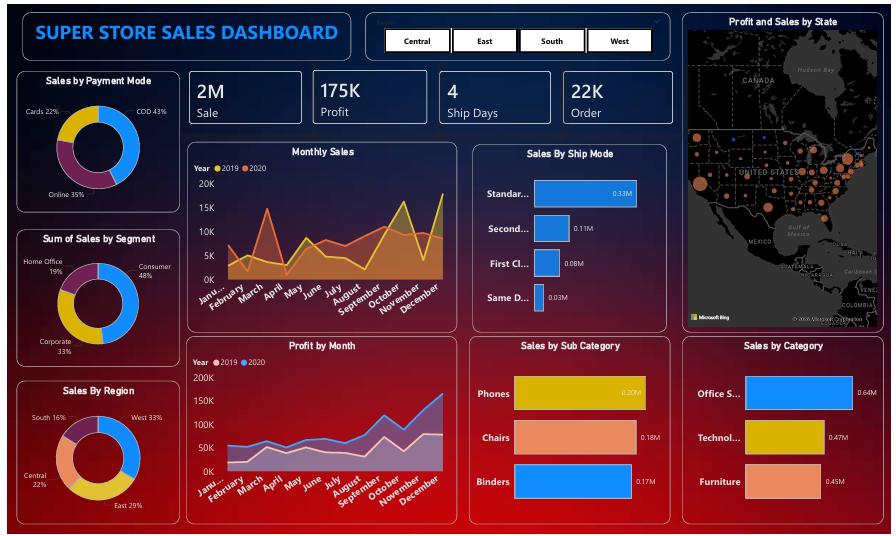

The page's visual inventory and layout, read from the dashboard file:
{"tool":"powerbi","page":{"name":"Page 1","canvas":[1500,900],"ordinal":0},"visuals":[{"type":"clusteredBarChart","title":" Sales by Category","fields":{"Category":["SuperStore_Sales_Dataset.Category"],"Y":["Sum(SuperStore_Sales_Dataset.Sales)"]},"box":[1146,564,342,320],"z":0},{"type":"clusteredBarChart","title":" Sales by Sub Category","fields":{"Category":["SuperStore_Sales_Dataset.Sub-Category"],"Y":["Sum(SuperStore_Sales_Dataset.Sales)"]},"box":[784,564,342,320],"z":1000},{"type":"clusteredBarChart","title":" Sales By Ship Mode","fields":{"Category":["SuperStore_Sales_Dataset.Ship Mode"],"Y":["Sum(SuperStore_Sales_Dataset.Sales)"]},"box":[790,238,330,320],"z":2000},{"type":"areaChart","title":"Profit by Month ","fields":{"Category":["SuperStore_Sales_Dataset.Order Date.Variation.Date Hierarchy.Month","SuperStore_Sales_Dataset.Order Date.Variation.Date Hierarchy.Day"],"Y":["Sum(SuperStore_Sales_Dataset.Sales)"],"Series":["SuperStore_Sales_Dataset.Order Date.Variation.Date Hierarchy.Year"]},"box":[304,564,460,320],"z":3000},{"type":"areaChart","title":"Monthly  Sales ","fields":{"Category":["SuperStore_Sales_Dataset.Order Date.Variation.Date Hierarchy.Month","SuperStore_Sales_Dataset.Order Date.Variation.Date Hierarchy.Day"],"Series":["SuperStore_Sales_Dataset.Order Date.Variation.Date Hierarchy.Year"],"Y":["Sum(SuperStore_Sales_Dataset.Profit)"]},"box":[306,234,458,324],"z":4000},{"type":"map","title":" Profit and Sales by State","fields":{"Category":["SuperStore_Sales_Dataset.State"],"Size":["Sum(SuperStore_Sales_Dataset.Sales)"]},"box":[1146,14,342,544],"z":5000},{"type":"donutChart","fields":{"Category":["SuperStore_Sales_Dataset.Segment"],"Y":["Sum(SuperStore_Sales_Dataset.Sales)"]},"box":[16.2,382.5,276.2,233.8],"z":6000},{"type":"donutChart","title":"Sales by Payment Mode","fields":{"Category":["SuperStore_Sales_Dataset.Payment Mode"],"Y":["Sum(SuperStore_Sales_Dataset.Sales)"]},"box":[16.2,113.8,276.2,240],"z":7000},{"type":"slicer","fields":{"Values":["SuperStore_Sales_Dataset.Region"]},"box":[608,14,518,82],"z":8000},{"type":"textbox","box":[26,14,558,82],"z":9000},{"type":"cardVisual","fields":{"Data":["Sum(SuperStore_Sales_Dataset.Sales)"]},"box":[291.7,96.7,225,123.3],"z":10000},{"type":"cardVisual","fields":{"Data":["Sum(SuperStore_Sales_Dataset.Quantity)"]},"box":[926.7,96.7,220,123.3],"z":11000},{"type":"cardVisual","fields":{"Data":["Sum(SuperStore_Sales_Dataset.Profit)"]},"box":[501.7,95,228.3,125],"z":12000},{"type":"cardVisual","fields":{"Data":["Avg(SuperStore_Sales_Dataset.AvgDelivery)"]},"box":[716.7,96.7,223.3,123.3],"z":13000},{"type":"donutChart","title":"Sales By Region","fields":{"Category":["SuperStore_Sales_Dataset.Region"],"Y":["Sum(SuperStore_Sales_Dataset.Sales)"]},"box":[16.2,640,276.2,243.8],"z":14000}]}

Visuals, with their boxes in screenshot pixels (x1, y1, x2, y2), scaled from the page's 1500x900 canvas onto the 896x536 screenshot:
" Sales by Category" clusteredBarChart: 685/336/889/526
" Sales by Sub Category" clusteredBarChart: 468/336/673/526
" Sales By Ship Mode" clusteredBarChart: 472/142/669/332
"Profit by Month " areaChart: 182/336/456/526
"Monthly  Sales " areaChart: 183/139/456/332
" Profit and Sales by State" map: 685/8/889/332
donutChart - SuperStore_Sales_Dataset.Segment x Sum(SuperStore_Sales_Dataset.Sales): 10/228/175/367
"Sales by Payment Mode" donutChart: 10/68/175/211
slicer - SuperStore_Sales_Dataset.Region: 363/8/673/57
textbox: 16/8/349/57
cardVisual - Sum(SuperStore_Sales_Dataset.Sales): 174/58/309/131
cardVisual - Sum(SuperStore_Sales_Dataset.Quantity): 554/58/685/131
cardVisual - Sum(SuperStore_Sales_Dataset.Profit): 300/57/436/131
cardVisual - Avg(SuperStore_Sales_Dataset.AvgDelivery): 428/58/561/131
"Sales By Region" donutChart: 10/381/175/526
